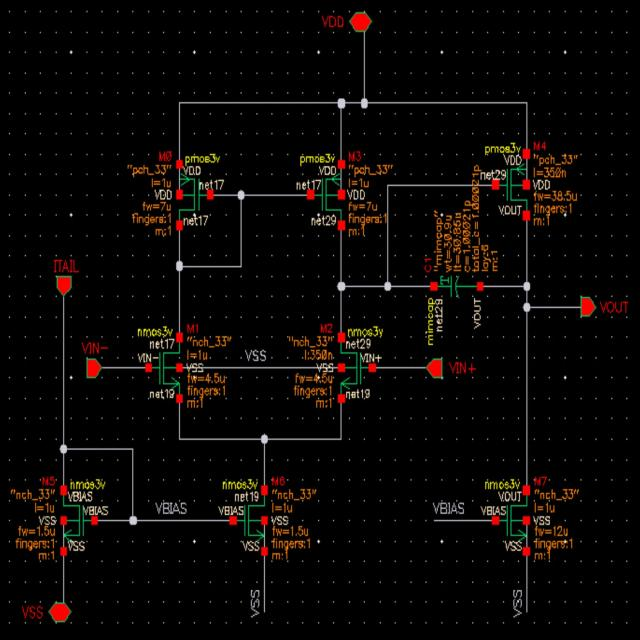cap: (430, 271, 486, 301)
nmos: (58, 482, 101, 560), (490, 486, 533, 558), (228, 485, 269, 560), (336, 333, 376, 403), (146, 334, 185, 405)
pmos: (484, 142, 532, 225), (174, 157, 214, 234), (306, 160, 348, 232)
